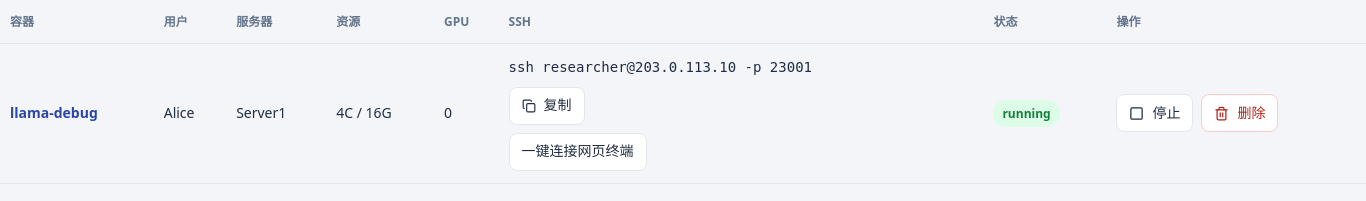
Test: SSH command copies from the list and failed copying explains the fallback
Click the button "复制" at (547, 106), box [509, 87, 585, 125]
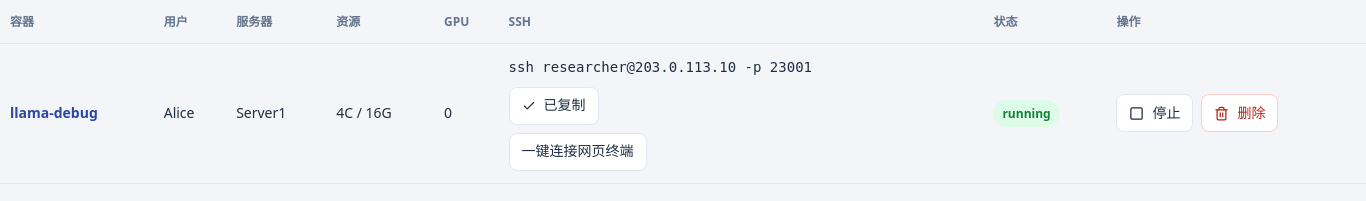
expect the text "已复制" is shown: met, box [544, 94, 586, 117]
Click the button "已复制" at (554, 106), box [509, 87, 599, 125]
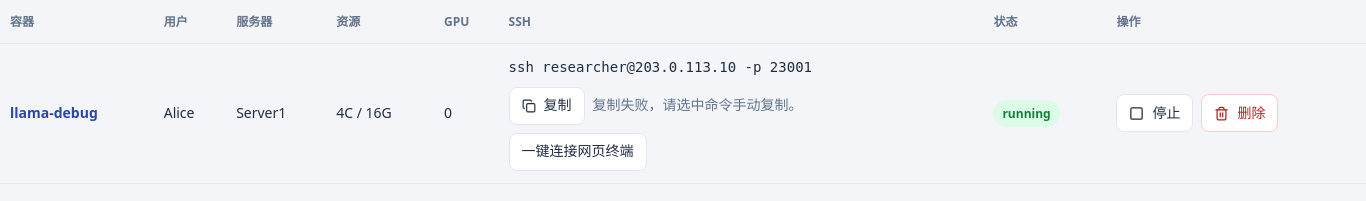
expect the text "复制失败，请选中命令手动复制。" is shown: met, box [593, 94, 803, 117]
